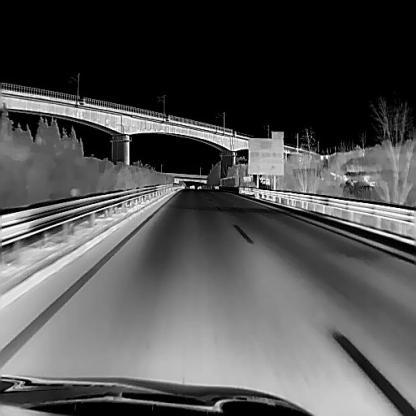car: (189, 182, 195, 188)
